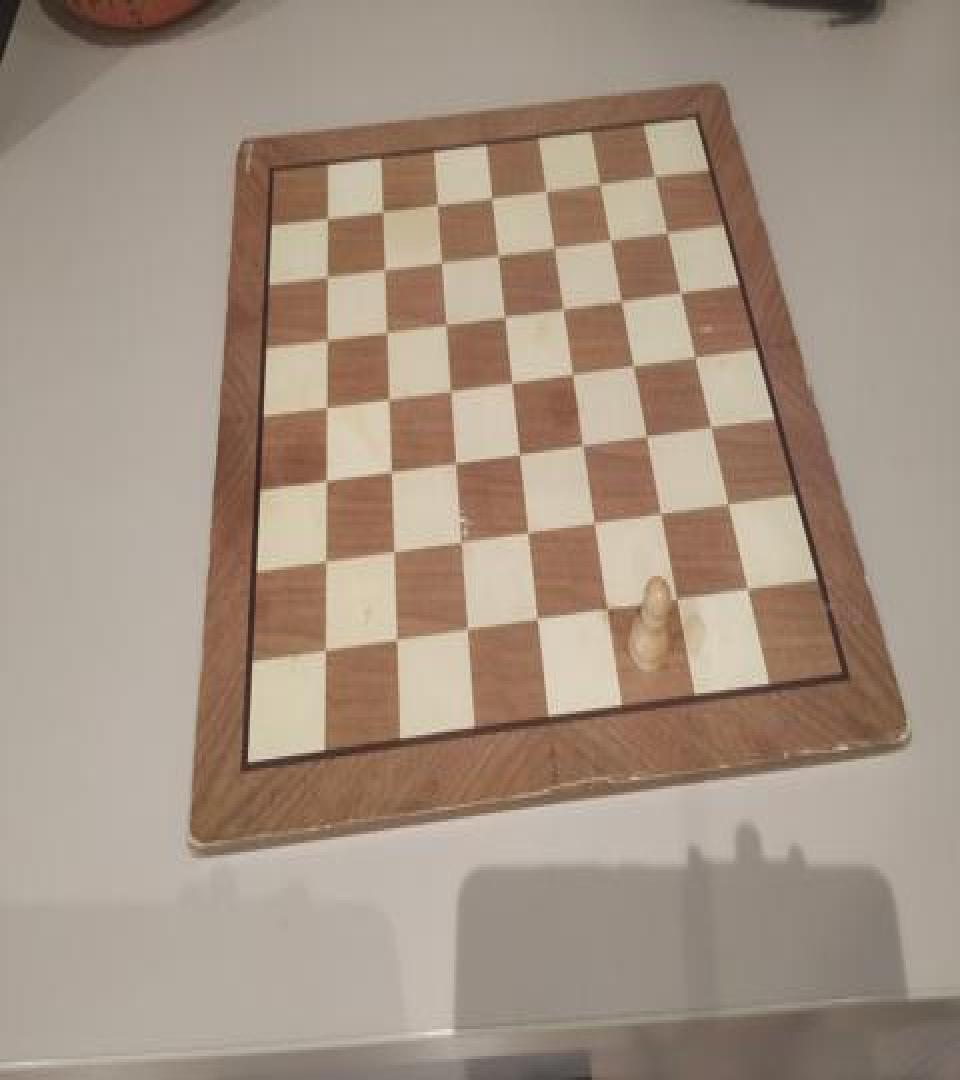xcorner: (655, 499, 675, 530), (313, 466, 333, 497), (377, 382, 397, 413), (375, 313, 395, 344), (495, 298, 515, 329), (591, 166, 611, 197), (312, 639, 332, 669), (386, 628, 406, 658), (458, 618, 478, 648), (530, 606, 550, 636), (672, 585, 692, 615), (742, 574, 762, 604), (313, 549, 333, 579), (382, 538, 402, 568), (452, 528, 472, 558), (520, 519, 540, 549), (588, 508, 608, 538), (722, 489, 742, 519), (380, 458, 400, 488), (446, 447, 466, 477), (511, 438, 531, 468), (576, 429, 596, 459), (640, 420, 660, 450), (704, 411, 724, 441), (314, 392, 334, 422), (440, 374, 460, 404), (503, 366, 523, 396), (565, 357, 585, 387), (626, 348, 646, 378), (687, 340, 707, 370), (314, 322, 334, 352), (435, 306, 455, 336), (555, 291, 575, 321), (614, 282, 634, 312), (672, 274, 692, 304), (314, 260, 334, 290), (372, 252, 392, 282), (430, 244, 450, 274), (488, 237, 508, 267), (545, 230, 565, 260), (602, 222, 622, 252), (658, 214, 678, 244), (314, 201, 334, 231), (370, 194, 390, 224), (426, 186, 446, 216), (482, 180, 502, 210), (537, 172, 557, 202), (646, 159, 666, 189), (601, 596, 621, 625)
